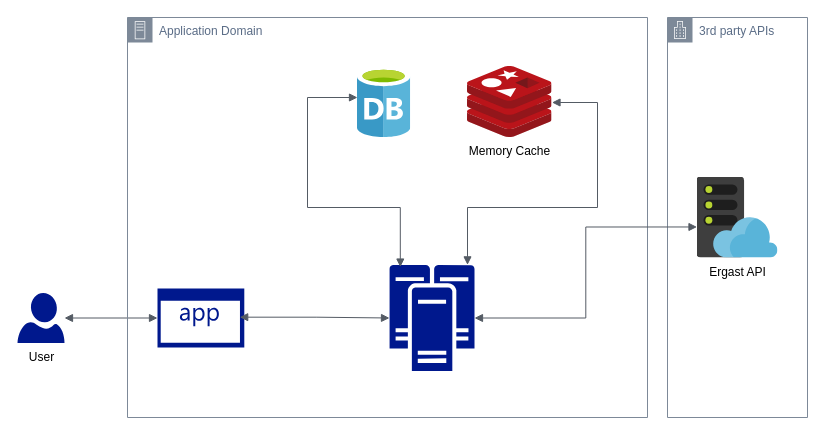
Image size: 825x435. Some labels were removed from this diagram. Each missing label, with the centre of its shape:
"Backend" goes at pixel 431 317.
"Database" goes at pixel 383 102.
"Web application" goes at pixel 200 317.
